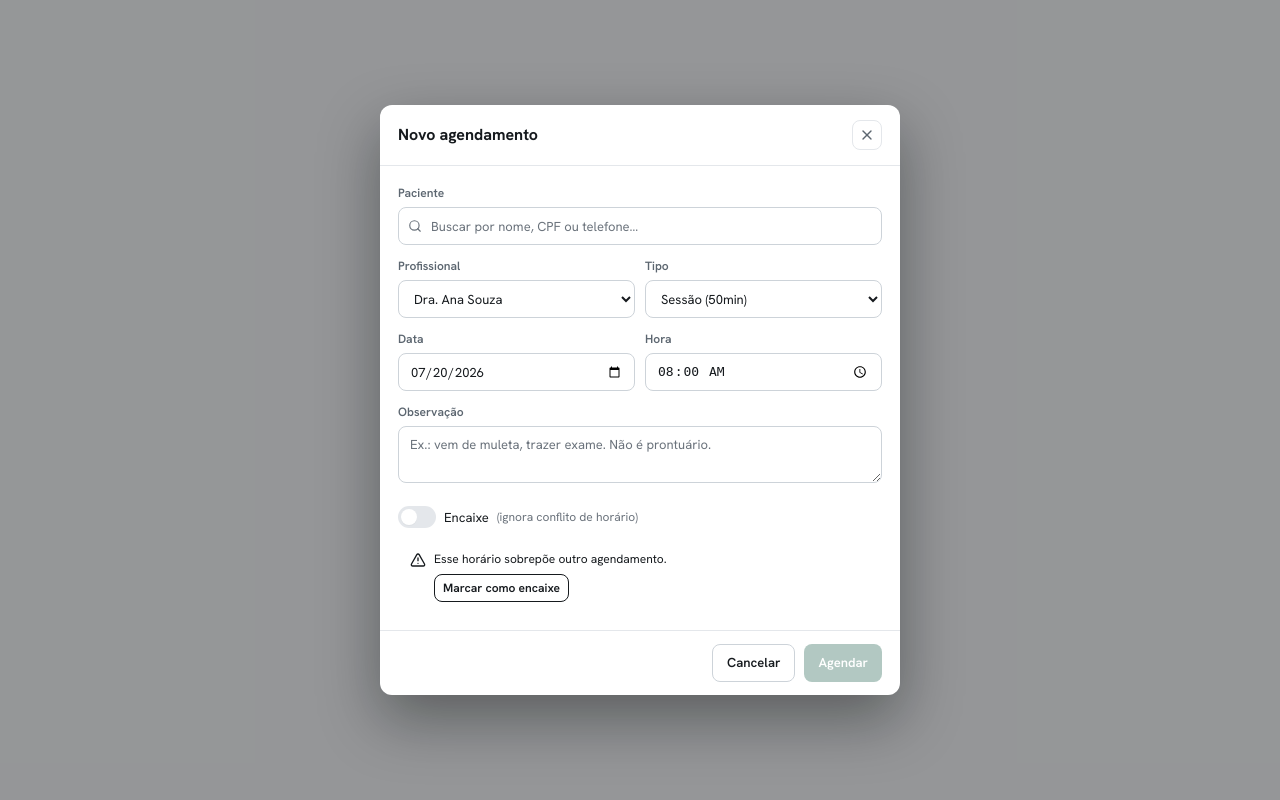
Scenario: NewAppointmentModal › conflito devolvido pelo servidor › oferece marcar como Encaixe
Click the button "Marcar como encaixe" at point(502, 588), box 434,574 -> 569,602
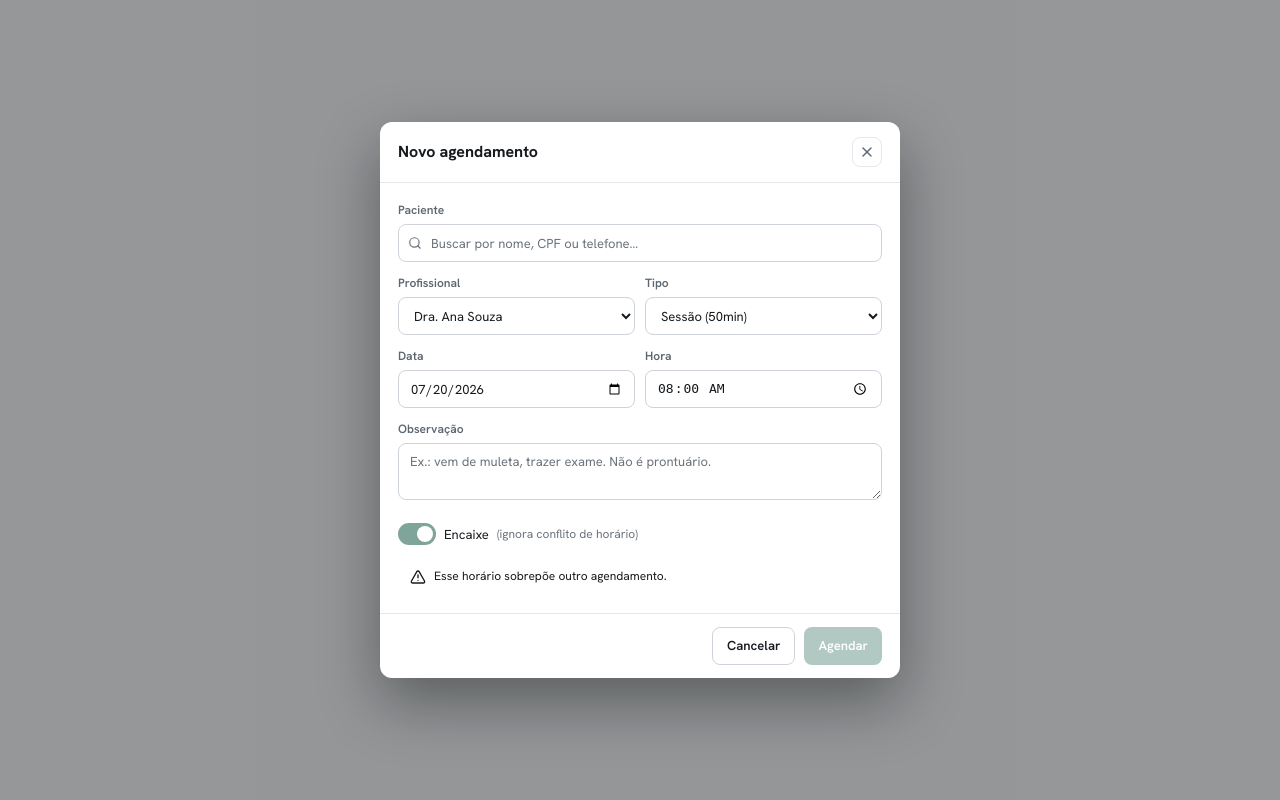
Expected: the switch named "encaixe" is checked, 398,523 -> 436,545
